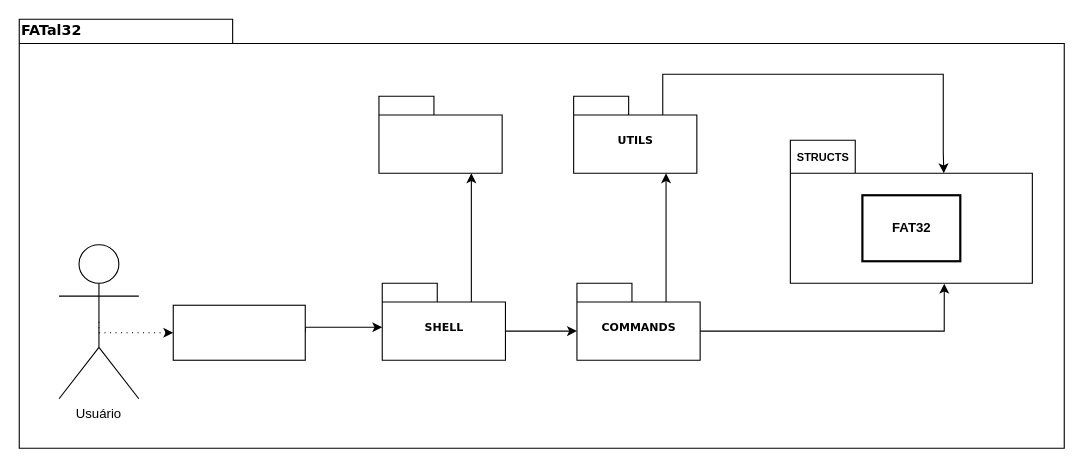
The diagram is 1084 pixels wide and 468 high, and some of its shapes have lost their labels. Here are the shapes that lost their labels. From the top down, the box of each, then its label:
(378, 95, 502, 173): MENU
(172, 304, 305, 360): FATal32 (main.c)
